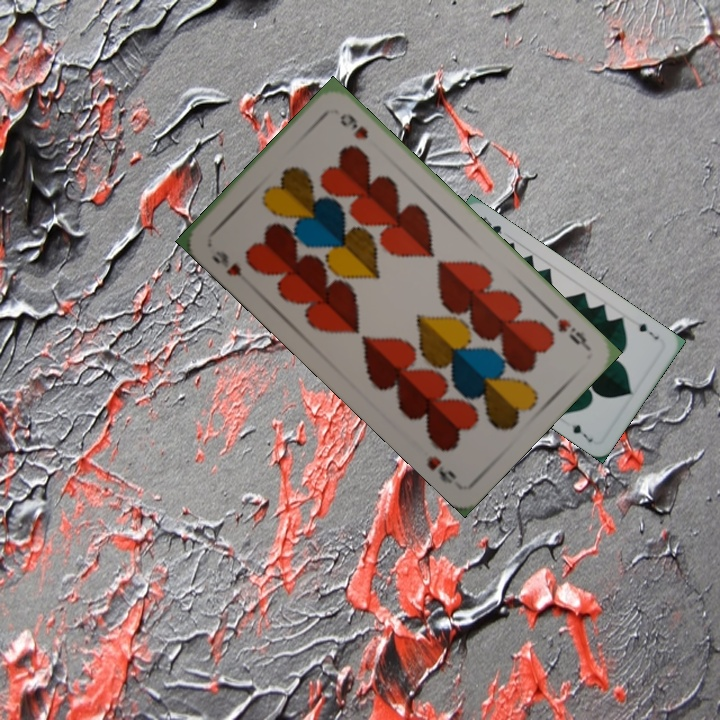G7: (631, 317, 661, 342)
H9: (553, 314, 592, 351), (207, 246, 245, 279)
